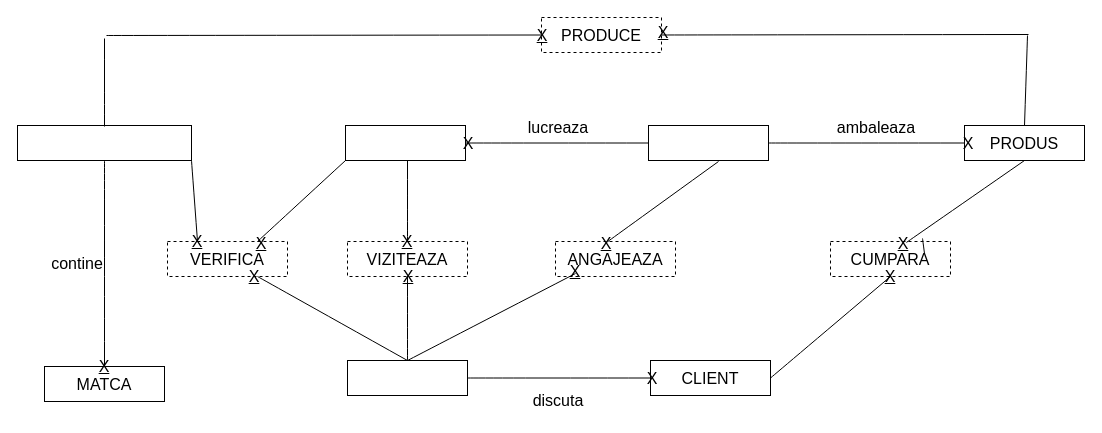
Image size: 1102x433. Some labels were removed from this diagram. Here are the shapes that lost their labels. From the top down, the centre of each, then its label:
point 104,142: FAMILIE_DE_ALBINE
point 405,142: LOCATIE
point 708,142: ANGAJAT
point 407,378: APICULTOR
